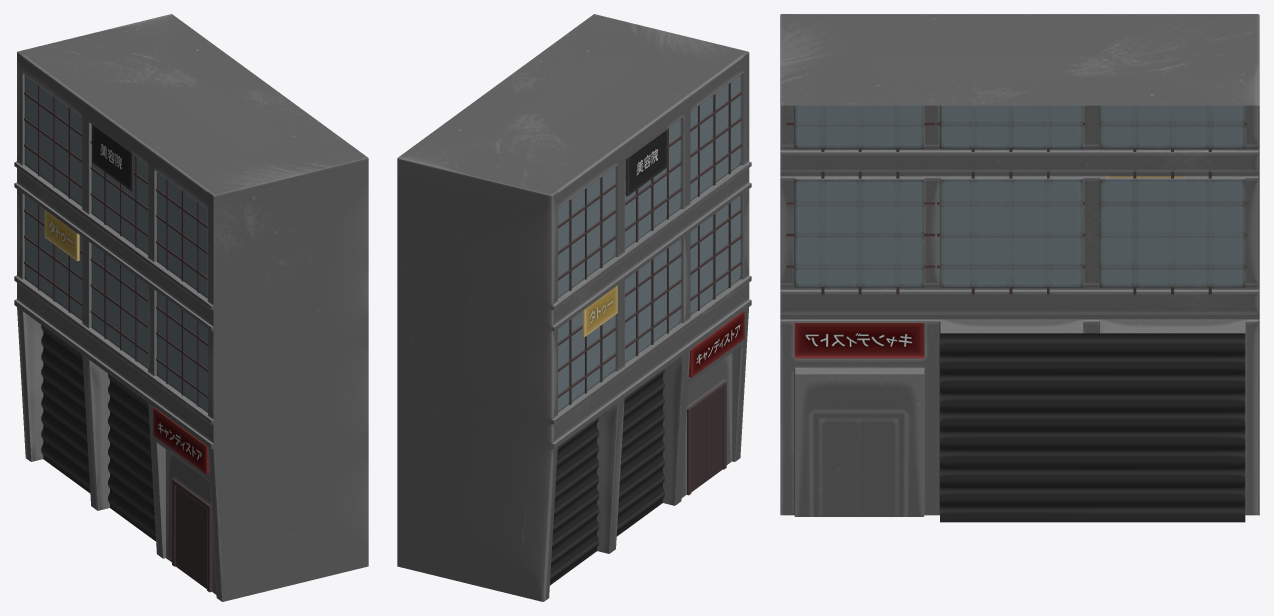
File: liberdade_casa02.fbx
3 renders of one model, left to right at view 1: azimuth 30°, elevation 25°; view 2: azimuth 150°, elevation 25°; view 3: azimuth 270°, elevation 25°, orthographic. The views are drawn at different scales.
Parts seen in each view (by area): view 1: Liberdade_Casa02, Liberdade_Casa02_Detalhes; view 2: Liberdade_Casa02, Liberdade_Casa02_Detalhes; view 3: Liberdade_Casa02, Liberdade_Casa02_Detalhes.
Boxes of the visible parts, bbox=[...] form: Liberdade_Casa02: bbox=[14, 14, 368, 601]; Liberdade_Casa02_Detalhes: bbox=[24, 85, 211, 592]; Liberdade_Casa02: bbox=[397, 14, 751, 601]; Liberdade_Casa02_Detalhes: bbox=[550, 83, 744, 585]; Liberdade_Casa02: bbox=[780, 14, 1259, 516]; Liberdade_Casa02_Detalhes: bbox=[786, 122, 1246, 522].
Bounding box in the file's own units: 415 × 1029 × 900.
